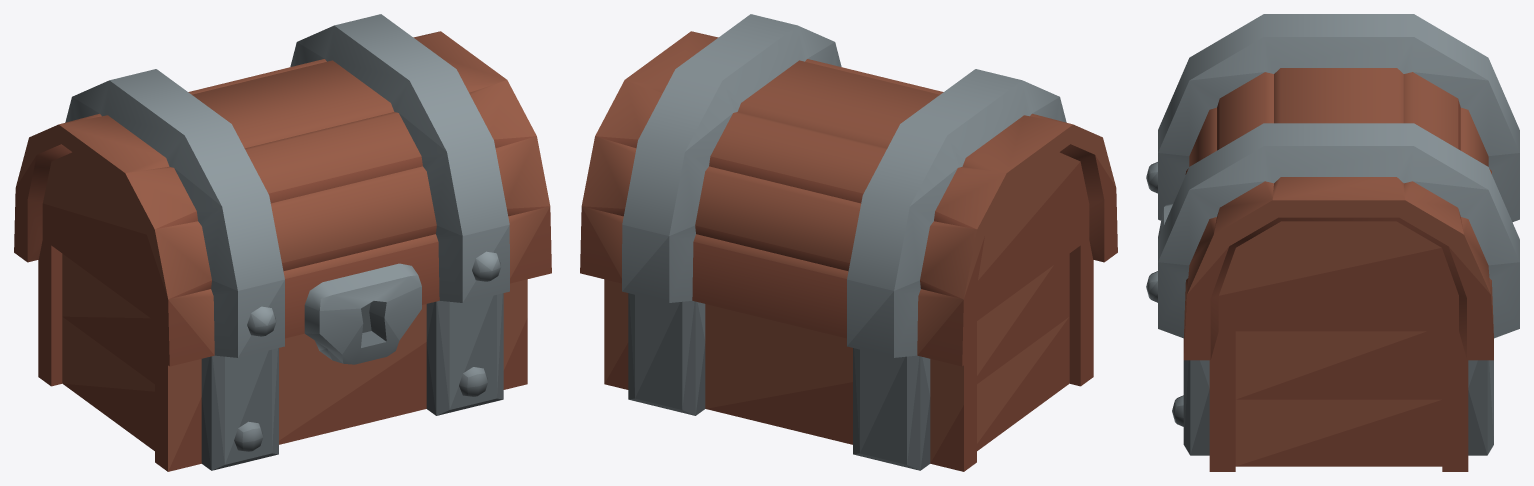
The model's file is chest.glb.
3 renders of one model, left to right at view 1: azimuth 30°, elevation 25°; view 2: azimuth 150°, elevation 25°; view 3: azimuth 270°, elevation 25°, orthographic.
Visible parts, largest first — view 1: Lid, Chest; view 2: Lid, Chest; view 3: Lid, Chest.
Boxes of the visible parts, <box> form: Lid: <box>14,14,551,366</box>; Chest: <box>38,239,527,471</box>; Lid: <box>580,14,1117,366</box>; Chest: <box>604,239,1093,471</box>; Lid: <box>1146,14,1519,360</box>; Chest: <box>1172,331,1493,471</box>.
Bounding box in the file's own units: 1.02 × 0.78 × 0.8675.
